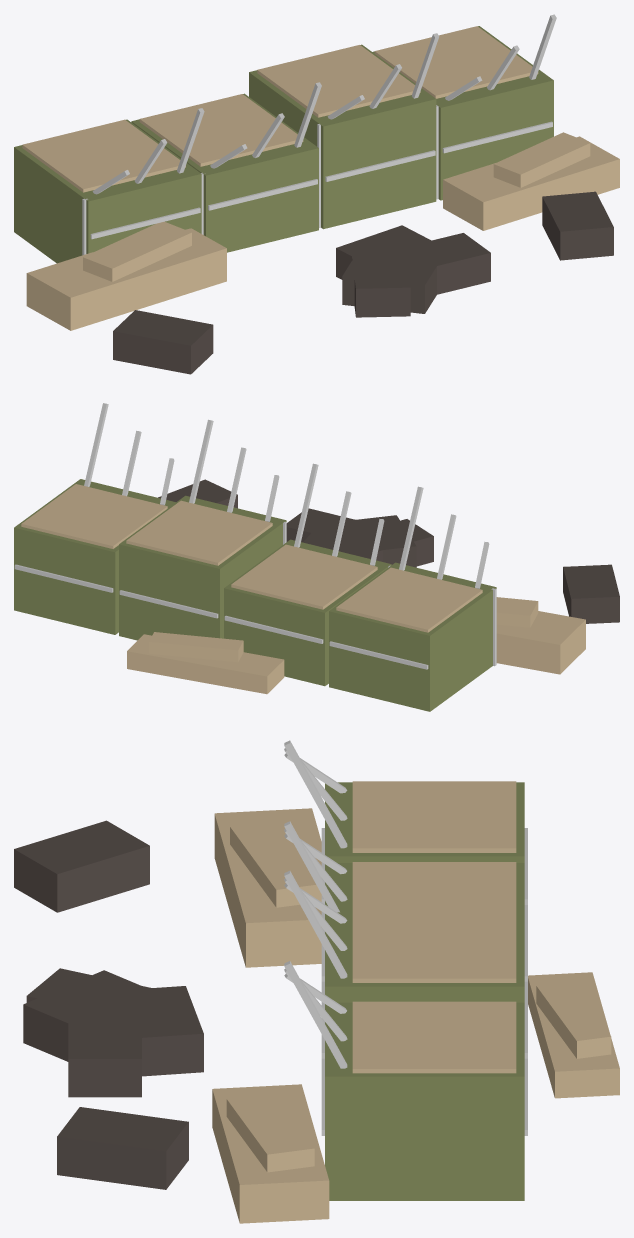
The model's file is SM_HescoCorto4_v0_MallaLimpia_e2_MuyDanado_LOD0.fbx.
3 renders of one model, top to bottom at view 1: azimuth 30°, elevation 25°; view 2: azimuth 150°, elevation 25°; view 3: azimuth 270°, elevation 25°, orthographic. The views are drawn at different scales.
Visible parts, largest first — view 1: SM_hesco_piezas_v102_LOD0; view 2: SM_hesco_piezas_v102_LOD0; view 3: SM_hesco_piezas_v102_LOD0.
Boxes of the visible parts, x1=… form: SM_hesco_piezas_v102_LOD0: x1=14, y1=14, x2=619, y2=374; SM_hesco_piezas_v102_LOD0: x1=14, y1=403, x2=619, y2=711; SM_hesco_piezas_v102_LOD0: x1=14, y1=740, x2=619, y2=1223.
Size of the model in its own units: 5.36 by 1.64 by 3.7.
